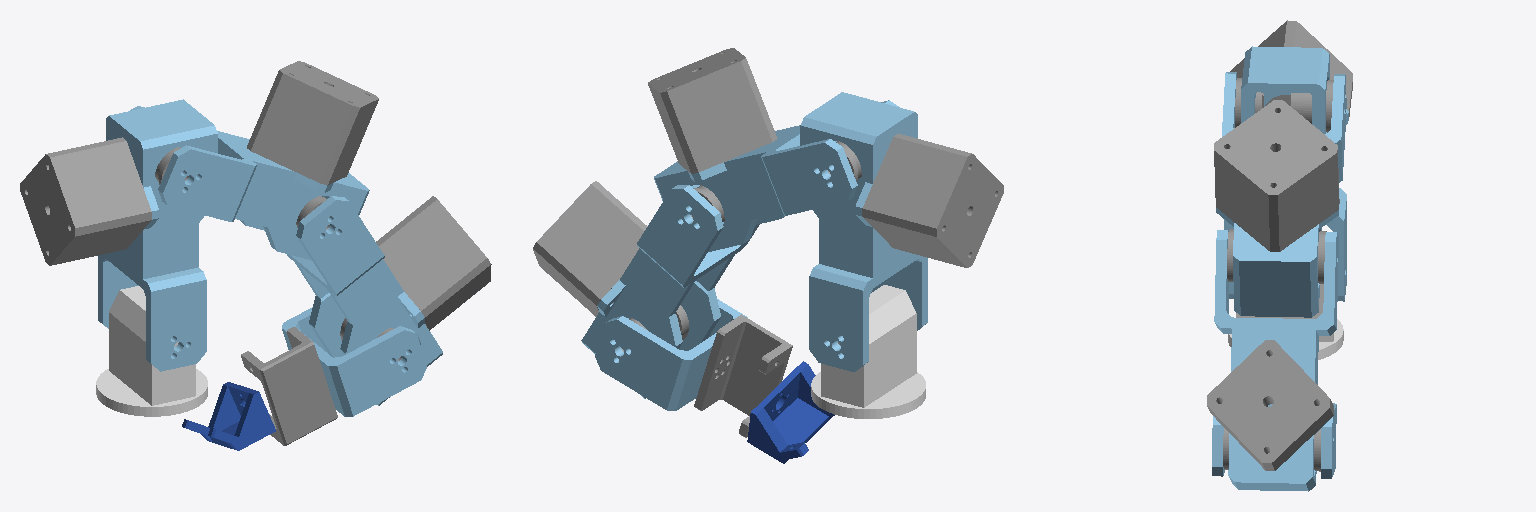
The robot description file, URDF, robot "assembly_1":
<!--URDF generated by ONSHAPE BY PTC INC, 1.215-->
<robot name="assembly_1">
    <link name="base">
        <inertial>
            <mass value="0.0599414" />
            <origin xyz="-1.83642e-17 -0.00938289 -0.0162516" rpy="0 -0 0" />
            <inertia ixx="1.4537e-05" ixy="0" ixz="0" iyy="1.86246e-05" iyz="-2.55447e-06" izz="1.56749e-05" />
        </inertial>
        <visual>
            <origin xyz="0 -0.0879008 -0.0448109" rpy="0 -0 0" />
            <geometry>
                <mesh filename="package://assembly_1/meshes/Base.stl" scale="1 1 1" />
            </geometry>
            <material name="0.917647_0.917647_0.917647_0.000000_0.000000">
                <color rgba="0.917647 0.917647 0.917647 1" />
            </material>
        </visual>
    </link>
    <link name="main_linkage_body">
        <inertial>
            <mass value="0.0652802" />
            <origin xyz="-0.0219602 -0.0524767 -0.00487468" rpy="0 -0 0" />
            <inertia ixx="7.6054e-05" ixy="0" ixz="0" iyy="2.69863e-05" iyz="2.3898e-06" izz="8.76401e-05" />
        </inertial>
        <visual>
            <origin xyz="-0.0219602 -0.0704008 -0.0195" rpy="0 -0 0" />
            <geometry>
                <mesh filename="package://assembly_1/meshes/Main_Linkage_Body.stl" scale="1 1 1" />
            </geometry>
            <material name="0.615686_0.811765_0.929412_0.000000_0.000000">
                <color rgba="0.615686 0.811765 0.929412 1" />
            </material>
        </visual>
    </link>
    <link name="main_linkage_body_1">
        <inertial>
            <mass value="0.0652802" />
            <origin xyz="0.0219602 -0.0524767 0.000125319" rpy="0 -0 0" />
            <inertia ixx="7.6054e-05" ixy="0" ixz="0" iyy="2.69863e-05" iyz="2.3898e-06" izz="8.76401e-05" />
        </inertial>
        <visual>
            <origin xyz="0.0219602 -0.0704008 -0.0145" rpy="0 -0 0" />
            <geometry>
                <mesh filename="package://assembly_1/meshes/Main_Linkage_Body.stl" scale="1 1 1" />
            </geometry>
            <material name="0.615686_0.811765_0.929412_0.000000_0.000000">
                <color rgba="0.615686 0.811765 0.929412 1" />
            </material>
        </visual>
    </link>
    <link name="main_linkage_body_2">
        <inertial>
            <mass value="0.0652802" />
            <origin xyz="0.0219602 -0.0524767 0.000125319" rpy="0 -0 0" />
            <inertia ixx="7.6054e-05" ixy="0" ixz="0" iyy="2.69863e-05" iyz="2.3898e-06" izz="8.76401e-05" />
        </inertial>
        <visual>
            <origin xyz="0.0219602 -0.0704008 -0.0145" rpy="0 -0 0" />
            <geometry>
                <mesh filename="package://assembly_1/meshes/Main_Linkage_Body.stl" scale="1 1 1" />
            </geometry>
            <material name="0.615686_0.811765_0.929412_0.000000_0.000000">
                <color rgba="0.615686 0.811765 0.929412 1" />
            </material>
        </visual>
    </link>
    <link name="main_linkage_coupler_long">
        <inertial>
            <mass value="0.00690919" />
            <origin xyz="0.0057914 -3.46945e-18 0" rpy="0 -0 0" />
            <inertia ixx="4.01388e-07" ixy="0" ixz="0" iyy="4.26291e-07" iyz="0" izz="4.26291e-07" />
        </inertial>
        <visual>
            <origin xyz="0.0189602 0.0137 -0.02" rpy="0 -0 0" />
            <geometry>
                <mesh filename="package://assembly_1/meshes/Main_Linkage_Coupler_Long.stl" scale="1 1 1" />
            </geometry>
            <material name="0.647059_0.647059_0.647059_0.000000_0.000000">
                <color rgba="0.647059 0.647059 0.647059 1" />
            </material>
        </visual>
    </link>
    <link name="main_linkage_coupler_long_1">
        <inertial>
            <mass value="0.00690919" />
            <origin xyz="0.0057914 -3.46945e-18 0" rpy="0 -0 0" />
            <inertia ixx="4.01388e-07" ixy="0" ixz="0" iyy="4.26291e-07" iyz="0" izz="4.26291e-07" />
        </inertial>
        <visual>
            <origin xyz="0.0189602 0.0137 -0.02" rpy="0 -0 0" />
            <geometry>
                <mesh filename="package://assembly_1/meshes/Main_Linkage_Coupler_Long.stl" scale="1 1 1" />
            </geometry>
            <material name="0.647059_0.647059_0.647059_0.000000_0.000000">
                <color rgba="0.647059 0.647059 0.647059 1" />
            </material>
        </visual>
    </link>
    <link name="main_linkage_coupler_long_2">
        <inertial>
            <mass value="0.00690919" />
            <origin xyz="0.0057914 -3.46945e-18 0" rpy="0 -0 0" />
            <inertia ixx="4.01388e-07" ixy="0" ixz="0" iyy="4.26291e-07" iyz="0" izz="4.26291e-07" />
        </inertial>
        <visual>
            <origin xyz="0.0189602 0.0137 -0.02" rpy="0 -0 0" />
            <geometry>
                <mesh filename="package://assembly_1/meshes/Main_Linkage_Coupler_Long.stl" scale="1 1 1" />
            </geometry>
            <material name="0.647059_0.647059_0.647059_0.000000_0.000000">
                <color rgba="0.647059 0.647059 0.647059 1" />
            </material>
        </visual>
    </link>
    <link name="main_linkage_coupler_short">
        <inertial>
            <mass value="0.00458916" />
            <origin xyz="-0.00539991 -0.00433013 0.0025" rpy="0 -0 0" />
            <inertia ixx="2.80349e-07" ixy="0" ixz="0" iyy="1.991e-07" iyz="0" izz="1.991e-07" />
        </inertial>
        <visual>
            <origin xyz="-0.0219602 0.00936987 -0.0175" rpy="0 -0 0" />
            <geometry>
                <mesh filename="package://assembly_1/meshes/Main_Linkage_Coupler_Short.stl" scale="1 1 1" />
            </geometry>
            <material name="0.647059_0.647059_0.647059_0.000000_0.000000">
                <color rgba="0.647059 0.647059 0.647059 1" />
            </material>
        </visual>
    </link>
    <link name="main_linkage_coupler_short_1">
        <inertial>
            <mass value="0.00458916" />
            <origin xyz="-0.00539991 -0.00433013 0.0025" rpy="0 -0 0" />
            <inertia ixx="2.80349e-07" ixy="0" ixz="0" iyy="1.991e-07" iyz="0" izz="1.991e-07" />
        </inertial>
        <visual>
            <origin xyz="-0.0219602 0.00936987 -0.0175" rpy="0 -0 0" />
            <geometry>
                <mesh filename="package://assembly_1/meshes/Main_Linkage_Coupler_Short.stl" scale="1 1 1" />
            </geometry>
            <material name="0.647059_0.647059_0.647059_0.000000_0.000000">
                <color rgba="0.647059 0.647059 0.647059 1" />
            </material>
        </visual>
    </link>
    <link name="main_linkage_coupler_short_2">
        <inertial>
            <mass value="0.00458916" />
            <origin xyz="-0.00539991 -0.00433013 0.0025" rpy="0 -0 0" />
            <inertia ixx="2.80349e-07" ixy="0" ixz="0" iyy="1.991e-07" iyz="0" izz="1.991e-07" />
        </inertial>
        <visual>
            <origin xyz="-0.0219602 0.00936987 -0.0175" rpy="0 -0 0" />
            <geometry>
                <mesh filename="package://assembly_1/meshes/Main_Linkage_Coupler_Short.stl" scale="1 1 1" />
            </geometry>
            <material name="0.647059_0.647059_0.647059_0.000000_0.000000">
                <color rgba="0.647059 0.647059 0.647059 1" />
            </material>
        </visual>
    </link>
    <link name="main_linkage_end">
        <inertial>
            <mass value="0.0241309" />
            <origin xyz="-0.0219602 -0.0187756 -0.005" rpy="0 -0 0" />
            <inertia ixx="6.29353e-06" ixy="0" ixz="0" iyy="1.26366e-05" iyz="0" izz="1.55123e-05" />
        </inertial>
        <visual>
            <origin xyz="-0.0219602 -0.0704008 -0.0195" rpy="0 -0 0" />
            <geometry>
                <mesh filename="package://assembly_1/meshes/Main_Linkage_End.stl" scale="1 1 1" />
            </geometry>
            <material name="0.615686_0.811765_0.929412_0.000000_0.000000">
                <color rgba="0.615686 0.811765 0.929412 1" />
            </material>
        </visual>
    </link>
    <link name="part_23">
        <inertial>
            <mass value="8.92147e-06" />
            <origin xyz="0.00433013 0.00347323 -0.0119318" rpy="0 -0 0" />
            <inertia ixx="1.24156e-09" ixy="0" ixz="0" iyy="2.5296e-09" iyz="1.32175e-10" izz="1.96945e-09" />
        </inertial>
        <visual>
            <origin xyz="0.00433013 -0.0025 -0.029" rpy="0 -0 0" />
            <geometry>
                <mesh filename="package://assembly_1/meshes/Part_23.stl" scale="1 1 1" />
            </geometry>
            <material name="0.647059_0.647059_0.647059_0.000000_0.000000">
                <color rgba="0.647059 0.647059 0.647059 1" />
            </material>
        </visual>
    </link>
    <link name="part_24">
        <inertial>
            <mass value="6.88678e-06" />
            <origin xyz="-0.00481272 0.00861894 0" rpy="0 -0 0" />
            <inertia ixx="1.70207e-09" ixy="8.70413e-11" ixz="0" iyy="1.55737e-09" iyz="0" izz="5.9042e-10" />
        </inertial>
        <visual>
            <origin xyz="-0.00184196 0.0102361 -0.017" rpy="0 -0 0" />
            <geometry>
                <mesh filename="package://assembly_1/meshes/Part_24.stl" scale="1 1 1" />
            </geometry>
            <material name="0.231373_0.380392_0.705882_0.000000_0.000000">
                <color rgba="0.231373 0.380392 0.705882 1" />
            </material>
        </visual>
    </link>
    <link name="root" />
    <link name="stepper_body">
        <inertial>
            <mass value="0.616281" />
            <origin xyz="0.0155 0.0155 0.02" rpy="0 -0 0" />
            <inertia ixx="0.000172515" ixy="0" ixz="0" iyy="0.000172515" iyz="0" izz="0.000180688" />
        </inertial>
        <visual>
            <origin xyz="0.0155 0.0155 0" rpy="0 -0 0" />
            <geometry>
                <mesh filename="package://assembly_1/meshes/Stepper_Body.stl" scale="1 1 1" />
            </geometry>
            <material name="0.647059_0.647059_0.647059_0.000000_0.000000">
                <color rgba="0.647059 0.647059 0.647059 1" />
            </material>
        </visual>
    </link>
    <link name="stepper_body_1">
        <inertial>
            <mass value="0.616281" />
            <origin xyz="0.0155 0.0155 0.02" rpy="0 -0 0" />
            <inertia ixx="0.000172515" ixy="0" ixz="0" iyy="0.000172515" iyz="0" izz="0.000180688" />
        </inertial>
        <visual>
            <origin xyz="0.0155 0.0155 0" rpy="0 -0 0" />
            <geometry>
                <mesh filename="package://assembly_1/meshes/Stepper_Body.stl" scale="1 1 1" />
            </geometry>
            <material name="0.647059_0.647059_0.647059_0.000000_0.000000">
                <color rgba="0.647059 0.647059 0.647059 1" />
            </material>
        </visual>
    </link>
    <link name="stepper_body_2">
        <inertial>
            <mass value="0.616281" />
            <origin xyz="0.0155 0.0155 0.02" rpy="0 -0 0" />
            <inertia ixx="0.000172515" ixy="0" ixz="0" iyy="0.000172515" iyz="0" izz="0.000180688" />
        </inertial>
        <visual>
            <origin xyz="0.0155 0.0155 0" rpy="0 -0 0" />
            <geometry>
                <mesh filename="package://assembly_1/meshes/Stepper_Body.stl" scale="1 1 1" />
            </geometry>
            <material name="0.647059_0.647059_0.647059_0.000000_0.000000">
                <color rgba="0.647059 0.647059 0.647059 1" />
            </material>
        </visual>
    </link>
    <joint name="base_mount" type="fixed">
        <origin xyz="0.0219602 -0.0218301 -0.0278109" rpy="1.0472 6.17922e-16 1.78163e-16" />
        <axis xyz="-1 0 0" />
        <parent link="base" />
        <child link="main_linkage_body" />
    </joint>
    <joint name="base_rotation" type="continuous">
        <origin xyz="0 0 0" rpy="-2.61799 5.41234e-15 -1.61951" />
        <axis xyz="0 -0.5 -0.866025" />
        <parent link="root" />
        <child link="base" />
    </joint>
    <joint name="end_effector_attachment" type="fixed">
        <origin xyz="-0.0262903 -0.0341699 -0.0025" rpy="0 1.5708 -4.71239" />
        <axis xyz="0 0 1" />
        <parent link="main_linkage_end" />
        <child link="part_23" />
    </joint>
    <joint name="left_coupler_mount__1_" type="fixed">
        <origin xyz="-0.003 -1.38778e-17 0" rpy="-6.38378e-16 2.68181e-16 1.25468e-15" />
        <axis xyz="1 0 0" />
        <parent link="main_linkage_coupler_long" />
        <child link="main_linkage_body_2" />
    </joint>
    <joint name="left_coupler_mount__2_" type="fixed">
        <origin xyz="-0.003 -1.38778e-17 0" rpy="-5.66214e-15 -7.02895e-15 -7.89301e-15" />
        <axis xyz="1 0 0" />
        <parent link="main_linkage_coupler_long_1" />
        <child link="main_linkage_body_1" />
    </joint>
    <joint name="left_coupler_mount__3_" type="fixed">
        <origin xyz="-0.003 0 -0.005" rpy="-3.14159 -4.87146e-15 3.14159" />
        <axis xyz="1 0 0" />
        <parent link="main_linkage_coupler_long_2" />
        <child link="main_linkage_end" />
    </joint>
    <joint name="linkage_1_rotation" type="revolute">
        <origin xyz="-0.0409203 -0.0841008 0.0005" rpy="-0.875499 6.36942e-17 -8.65478e-16" />
        <axis xyz="-1 0 0" />
        <parent link="main_linkage_body" />
        <child link="main_linkage_coupler_long" />
        <limit effort="1" velocity="1" lower="0.349066" upper="1.91986" />
    </joint>
    <joint name="linkage_2_rotation" type="revolute">
        <origin xyz="0.003 -0.0841008 0.0055" rpy="-0.607096 1.89291e-15 -3.00928e-15" />
        <axis xyz="-1 0 0" />
        <parent link="main_linkage_body_2" />
        <child link="main_linkage_coupler_long_1" />
        <limit effort="1" velocity="1" lower="-2.44346" upper="0.349066" />
    </joint>
    <joint name="linkage_3_rotation" type="revolute">
        <origin xyz="0.003 -0.0841008 0.0055" rpy="-1.79522 -6.67135e-15 1.25856e-14" />
        <axis xyz="-1 0 0" />
        <parent link="main_linkage_body_1" />
        <child link="main_linkage_coupler_long_2" />
        <limit effort="1" velocity="1" lower="-0.698132" upper="2.0944" />
    </joint>
    <joint name="revolute_1" type="continuous">
        <origin xyz="0.00433013 -0.0030205 -0.034" rpy="-1.5708 2.91434e-15 -0.302906" />
        <axis xyz="0 -1 0" />
        <parent link="part_23" />
        <child link="part_24" />
    </joint>
    <joint name="right_coupler_mount__1_" type="fixed">
        <origin xyz="0.0439203 0.00433013 -0.0025" rpy="-7.49401e-16 5.27273e-15 1.28839e-15" />
        <axis xyz="1 1.98254e-16 0" />
        <parent link="main_linkage_body_2" />
        <child link="main_linkage_coupler_short" />
    </joint>
    <joint name="right_coupler_mount__2_" type="fixed">
        <origin xyz="0.0439203 0.00433013 -0.0025" rpy="1.53488e-14 1.00177e-14 -7.6144e-16" />
        <axis xyz="1 1.98254e-16 0" />
        <parent link="main_linkage_body_1" />
        <child link="main_linkage_coupler_short_1" />
    </joint>
    <joint name="right_coupler_mount__3_" type="fixed">
        <origin xyz="-0.0439203 -2.77556e-17 0" rpy="2.0944 -1.25644e-14 -3.14159" />
        <axis xyz="1 1.98254e-16 0" />
        <parent link="main_linkage_end" />
        <child link="main_linkage_coupler_short_2" />
    </joint>
    <joint name="stepper_mount_1" type="fixed">
        <origin xyz="-0.0219602 -0.0923211 -0.0195" rpy="-3.14159 -3.47535e-16 2.35619" />
        <axis xyz="0 0 -1" />
        <parent link="main_linkage_body" />
        <child link="stepper_body_1" />
    </joint>
    <joint name="stepper_mount_2" type="fixed">
        <origin xyz="0.0219602 -0.0923211 -0.0145" rpy="3.14159 -9.74394e-16 2.35619" />
        <axis xyz="0 0 -1" />
        <parent link="main_linkage_body_2" />
        <child link="stepper_body_2" />
    </joint>
    <joint name="stepper_mount_3" type="fixed">
        <origin xyz="0.0219602 -0.0923211 -0.0145" rpy="3.14159 1.64967e-14 2.35619" />
        <axis xyz="0 0 -1" />
        <parent link="main_linkage_body_1" />
        <child link="stepper_body" />
    </joint>
</robot>

--- Facts derived from the render (not from the file) ---
3 views of the same robot in one strip: view 1: azimuth 30°, elevation 25°; view 2: azimuth 150°, elevation 25°; view 3: azimuth 270°, elevation 25° (orthographic).
Robot: assembly_1 — 17 links, 16 joints (3 revolute, 2 continuous, 11 fixed); root link root; default pose: joints at zero except 1 at the middle of their limits (linkage_1_rotation = 1.13).
Visible links, largest first — view 1: main_linkage_body, main_linkage_body_1, stepper_body_1, main_linkage_body_2, stepper_body_2, stepper_body, base, main_linkage_end, part_23, part_24; view 2: main_linkage_body, main_linkage_body_1, stepper_body_1, main_linkage_body_2, stepper_body_2, base, stepper_body, main_linkage_end, part_23, part_24; view 3: stepper_body_2, stepper_body, main_linkage_body_1, main_linkage_body_2, main_linkage_body, stepper_body_1, main_linkage_end, base, main_linkage_coupler_long.
Link boxes in pixels (<box>): main_linkage_body: <box>98,99,217,371</box>; main_linkage_body_1: <box>287,196,442,405</box>; stepper_body_1: <box>20,137,151,265</box>; main_linkage_body_2: <box>130,106,369,260</box>; stepper_body_2: <box>247,61,378,184</box>; stepper_body: <box>376,196,491,330</box>; base: <box>96,286,207,416</box>; main_linkage_end: <box>282,307,426,416</box>; part_23: <box>241,327,337,445</box>; part_24: <box>182,382,275,450</box>; main_linkage_body: <box>800,92,927,371</box>; main_linkage_body_1: <box>581,185,759,398</box>; stepper_body_1: <box>862,133,1003,267</box>; main_linkage_body_2: <box>654,100,898,251</box>; stepper_body_2: <box>648,48,777,173</box>; base: <box>811,285,925,418</box>; stepper_body: <box>533,181,647,316</box>; main_linkage_end: <box>595,299,747,410</box>; part_23: <box>694,314,792,437</box>; part_24: <box>747,361,834,463</box>; stepper_body_2: <box>1214,100,1339,251</box>; stepper_body: <box>1207,340,1333,470</box>; main_linkage_body_1: <box>1214,230,1338,491</box>; main_linkage_body_2: <box>1216,72,1346,317</box>; main_linkage_body: <box>1224,46,1348,301</box>; stepper_body_1: <box>1230,20,1352,116</box>; main_linkage_end: <box>1212,403,1336,478</box>; base: <box>1228,284,1343,359</box>; main_linkage_coupler_long: <box>1291,80,1333,132</box>.
Bounding box of the posed robot: 0.2313 × 0.0661 × 0.1885 m (x, y, z).
Meshes: 8 distinct files referenced, 16 mesh visuals loaded (8 binary STL).
